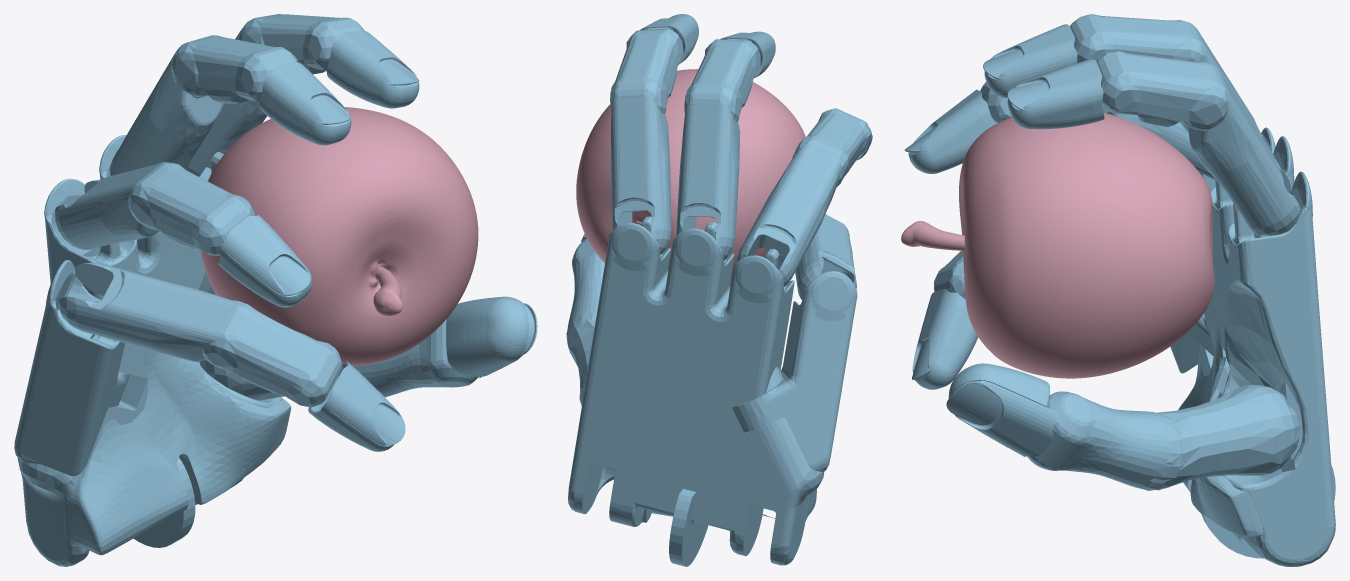
3 views of the same model, side by side, from view 1: azimuth 30°, elevation 25°; view 2: azimuth 150°, elevation 25°; view 3: azimuth 270°, elevation 25° (orthographic). The views are drawn at different scales.
Visible parts, largest first — view 1: world, apple.stl; view 2: world, apple.stl; view 3: world, apple.stl.
Part boxes in pixels (x1,y1,x2,y2): world: (14,14,537,566); apple.stl: (200,107,478,366); world: (566,14,872,566); apple.stl: (576,69,805,286); world: (904,14,1335,566); apple.stl: (901,113,1214,378).
Bounding box in the file's own units: 0.127 × 0.1722 × 0.1224.
